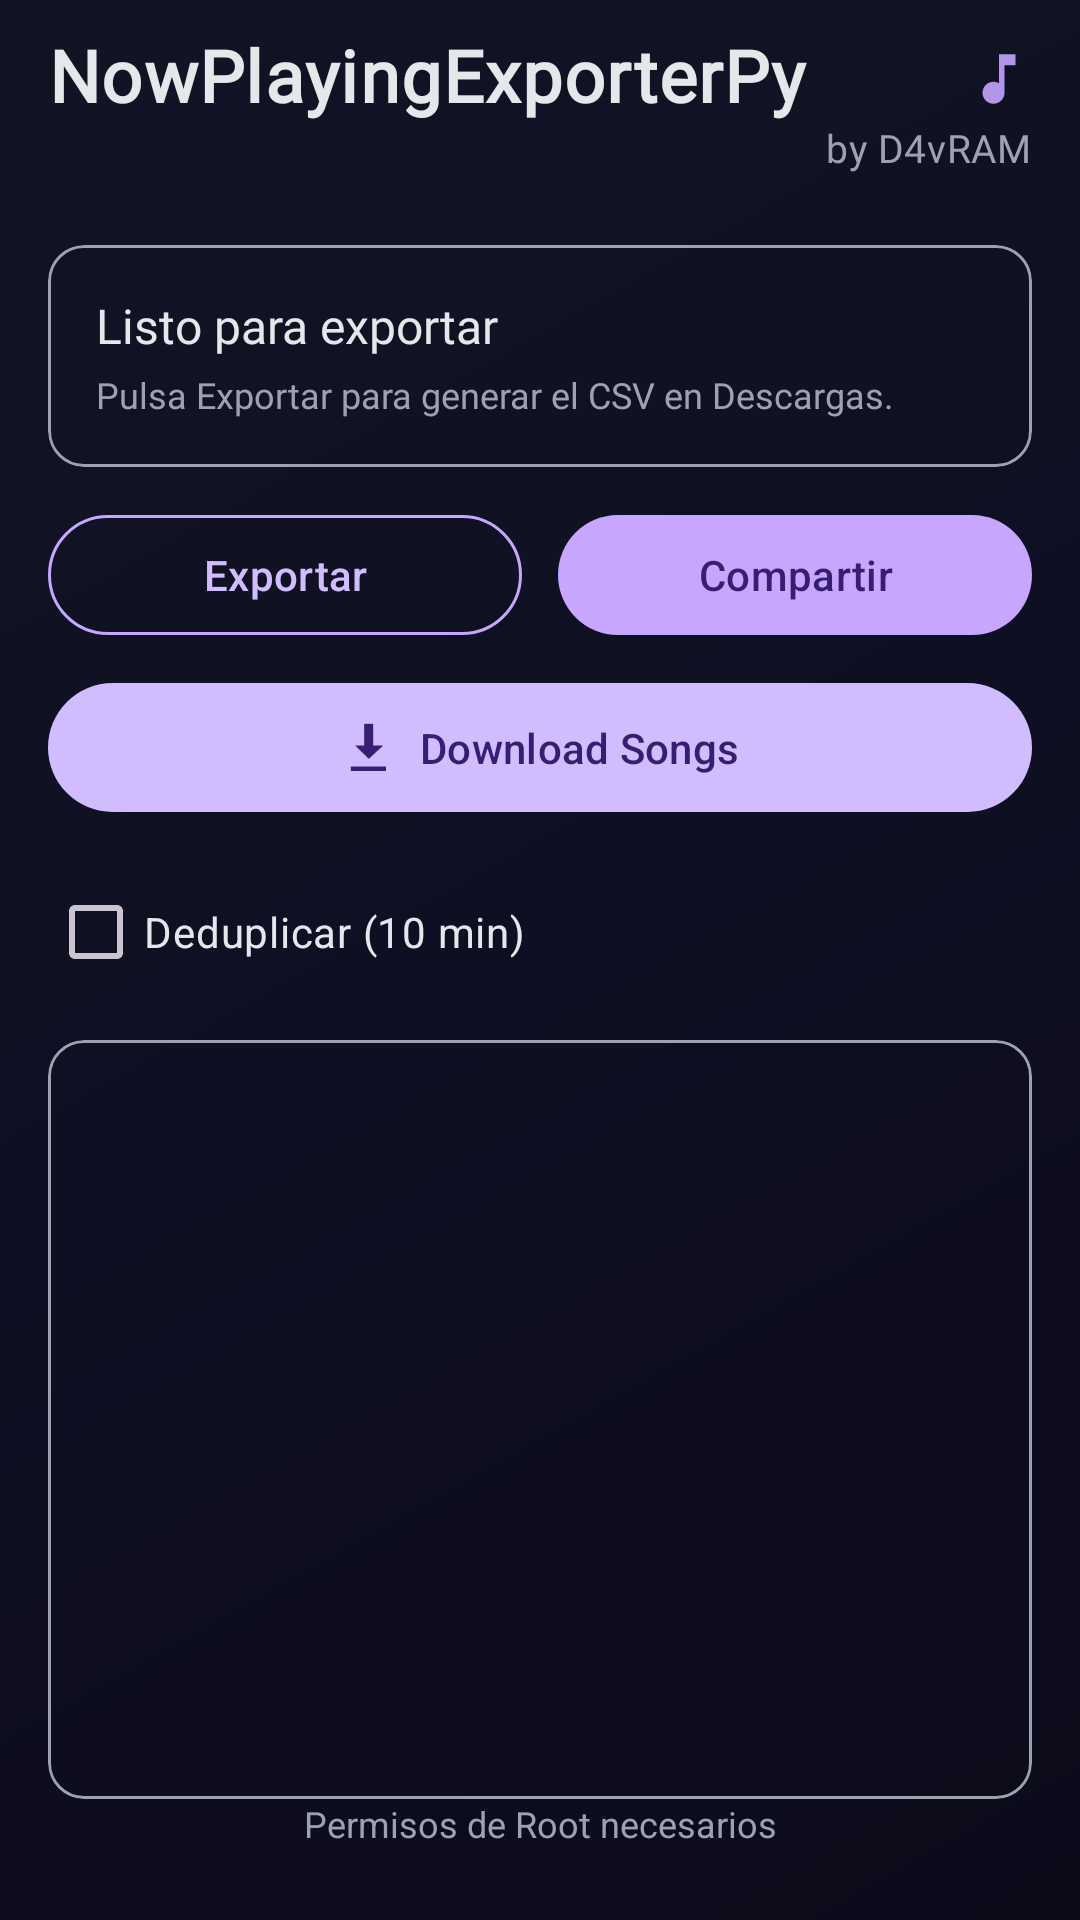

Screen size 1080×1920. Icon name, then its center in pixels as point (x, y):
music note: point (999, 79)
